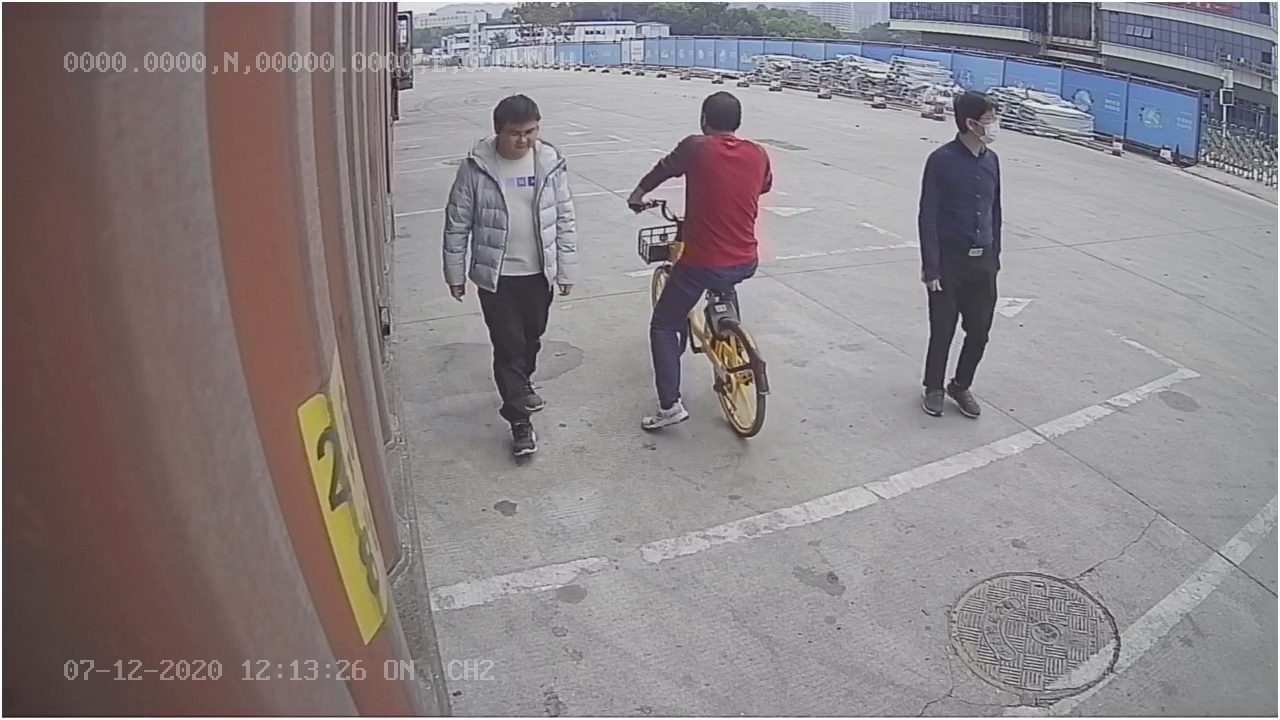person: (441, 90, 583, 456), (917, 83, 1007, 422)
